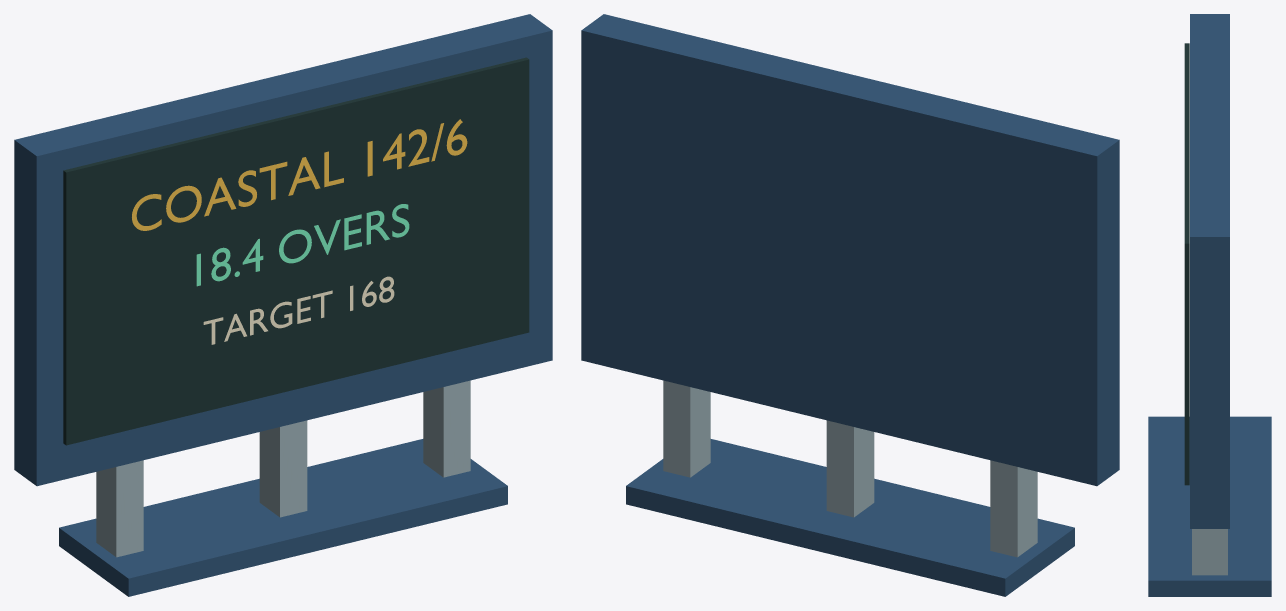
File: portable-electronic-scoreboard.glb
The picture shows the model from 3 angles, left to right: view 1: azimuth 30°, elevation 25°; view 2: azimuth 150°, elevation 25°; view 3: azimuth 270°, elevation 25°; orthographic projection. The views are drawn at different scales.
Visible parts, largest first — view 1: Scoreboard | display, Scoreboard | frame, Scoreboard | ground shoe, Scoreboard | footing.001, Scoreboard | footing, Scoreboard | footing.002, Scoreboard | title, Scoreboard | overs, Scoreboard | chase; view 2: Scoreboard | frame, Scoreboard | ground shoe, Scoreboard | footing.001, Scoreboard | footing, Scoreboard | footing.002; view 3: Scoreboard | frame, Scoreboard | ground shoe, Scoreboard | display, Scoreboard | footing.002.
Boxes of the visible parts, x1,y1,x2,y2 form: Scoreboard | display: (63,57,529,445); Scoreboard | frame: (14,14,552,486); Scoreboard | ground shoe: (59,439,507,596); Scoreboard | footing.001: (259,420,307,517); Scoreboard | footing: (96,460,143,557); Scoreboard | footing.002: (423,380,470,477); Scoreboard | title: (132,119,467,230); Scoreboard | overs: (196,204,409,286); Scoreboard | chase: (203,276,394,344); Scoreboard | frame: (581,14,1119,486); Scoreboard | ground shoe: (626,439,1074,596); Scoreboard | footing.001: (826,420,874,517); Scoreboard | footing: (990,460,1037,557); Scoreboard | footing.002: (663,380,710,477); Scoreboard | frame: (1190,14,1229,528); Scoreboard | ground shoe: (1148,416,1271,596); Scoreboard | display: (1184,43,1189,485); Scoreboard | footing.002: (1192,529,1227,575).
Size of the model in its own units: 2.65 by 2.16 by 0.62.
